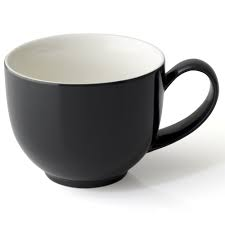cup: (2, 34, 221, 193)
